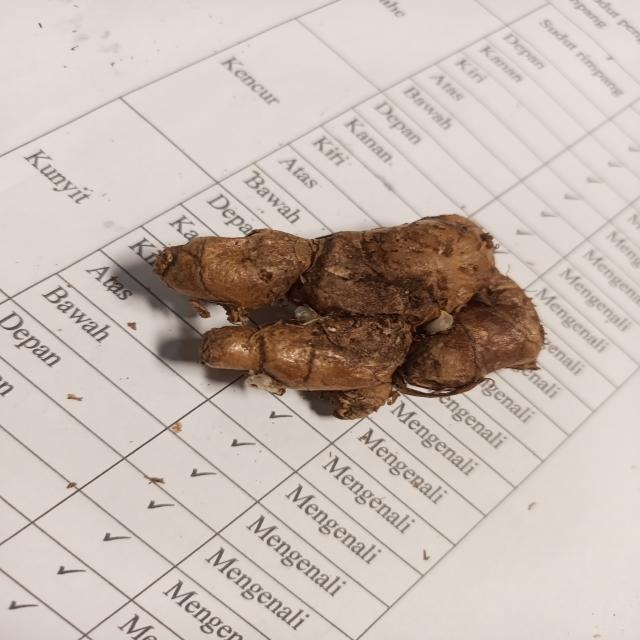ginger: (162, 212, 548, 399)
